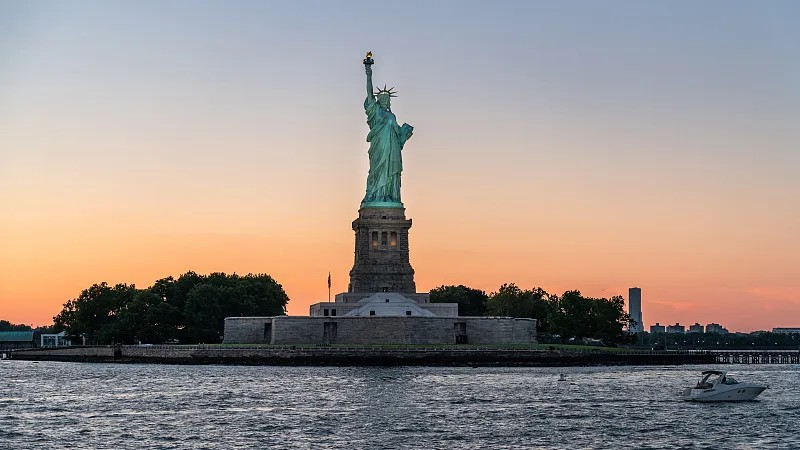SL: (348, 51, 417, 294)
